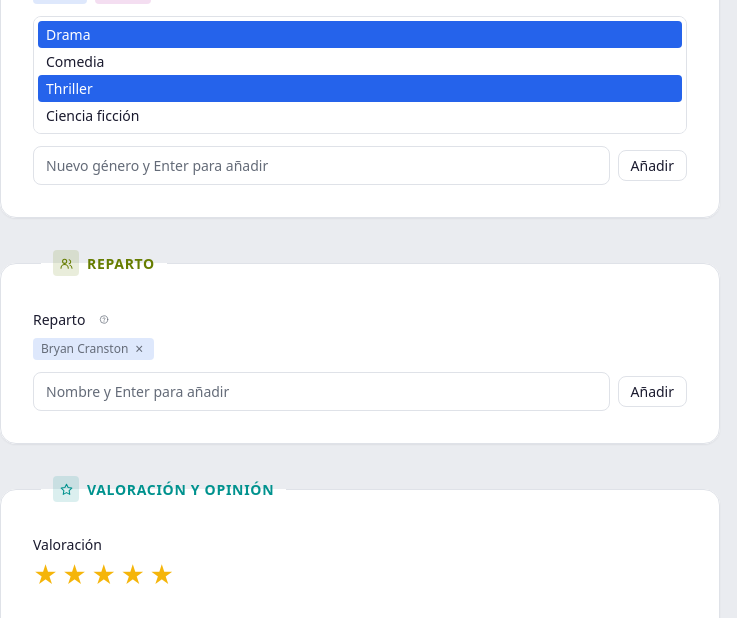
Test: SeriesForm › quita un chip del reparto
(page scrolled)
Expected: the text "Bryan Cranston" is shown, top-left (41, 340), bottom-right (128, 357)
Click the button named "quitar Bryan Cranston" at (139, 349), box top-left (132, 342), bottom-right (146, 356)
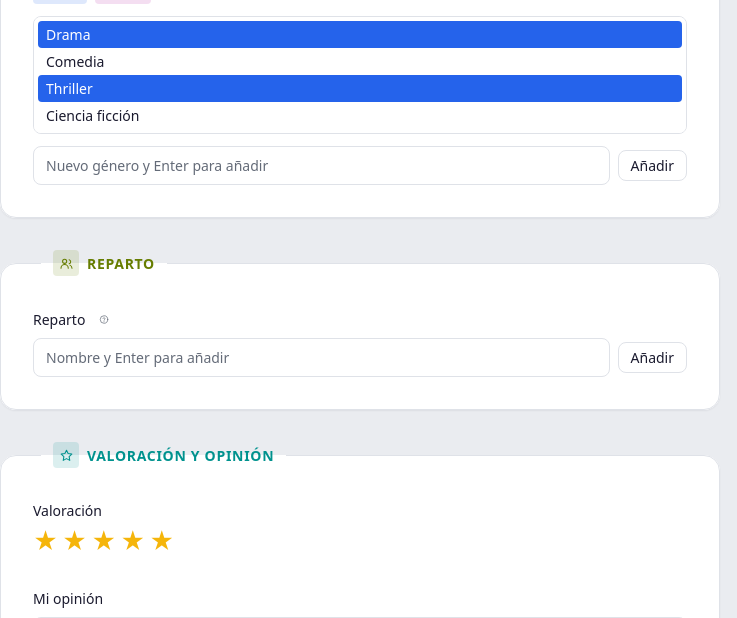
Expected: the text "Bryan Cranston" is gone
